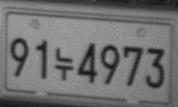1: (33, 40, 54, 79)
3: (145, 47, 165, 88)
4: (76, 42, 98, 83)
7: (122, 45, 142, 86)
9: (100, 43, 120, 84), (9, 37, 29, 76)
누: (54, 47, 73, 81)
